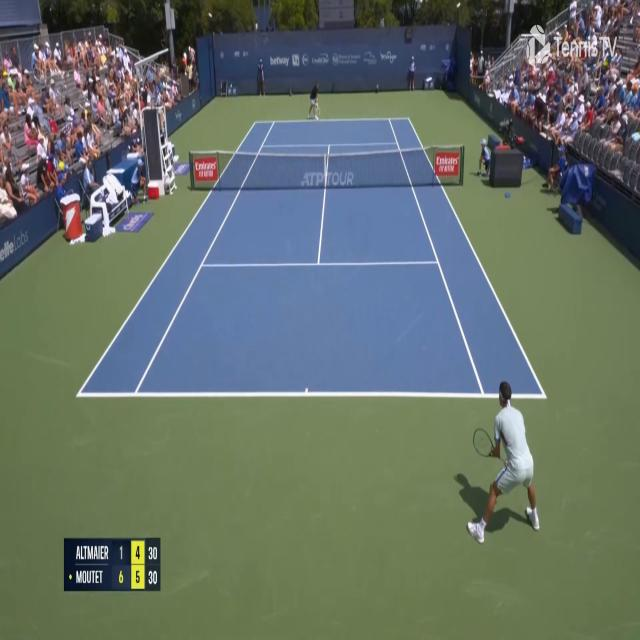tennis-player: (470, 376, 546, 544), (306, 78, 322, 122)
